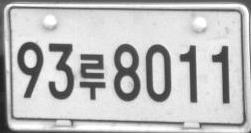0: (144, 43, 172, 103)
1: (177, 44, 205, 102), (210, 45, 238, 103)
3: (48, 42, 74, 100)
8: (113, 42, 141, 102)
9: (16, 41, 44, 99)
루: (79, 53, 105, 100)
